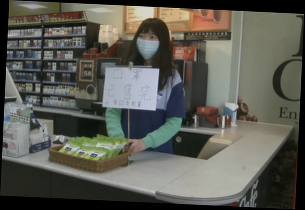with_mask: (134, 30, 160, 59)
